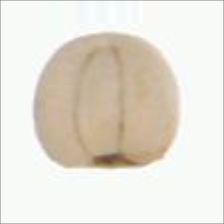L5: (71, 45, 124, 152), (64, 152, 163, 172), (69, 29, 150, 46)
L6: (32, 30, 184, 171)
